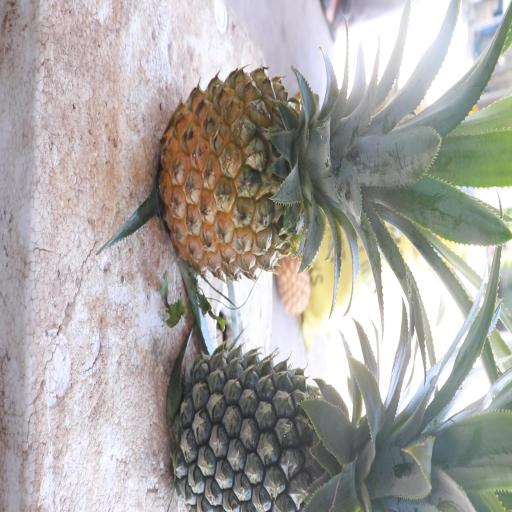Pineapple - v8 v1: (156, 62, 458, 308)
